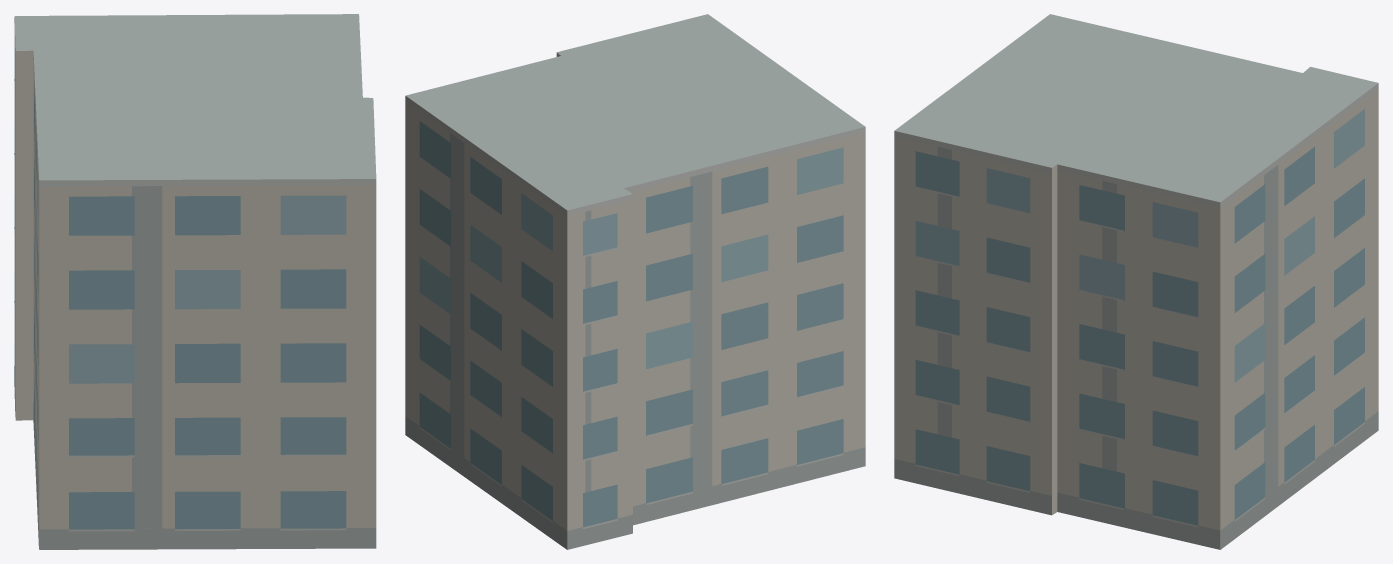
File: survey-upis-32847015.glb
The picture shows the model from 3 angles, left to right: view 1: azimuth 30°, elevation 25°; view 2: azimuth 150°, elevation 25°; view 3: azimuth 270°, elevation 25°; orthographic projection. The views are drawn at different scales.
Visible parts, largest first — view 1: survey-upis-32847015.tmp; view 2: survey-upis-32847015.tmp; view 3: survey-upis-32847015.tmp.
Boxes of the visible parts, bbox=[...] form: survey-upis-32847015.tmp: bbox=[14, 14, 376, 549]; survey-upis-32847015.tmp: bbox=[405, 14, 865, 549]; survey-upis-32847015.tmp: bbox=[894, 14, 1378, 549].
Bounding box in the file's own units: 16.86 × 14.5 × 18.32.
